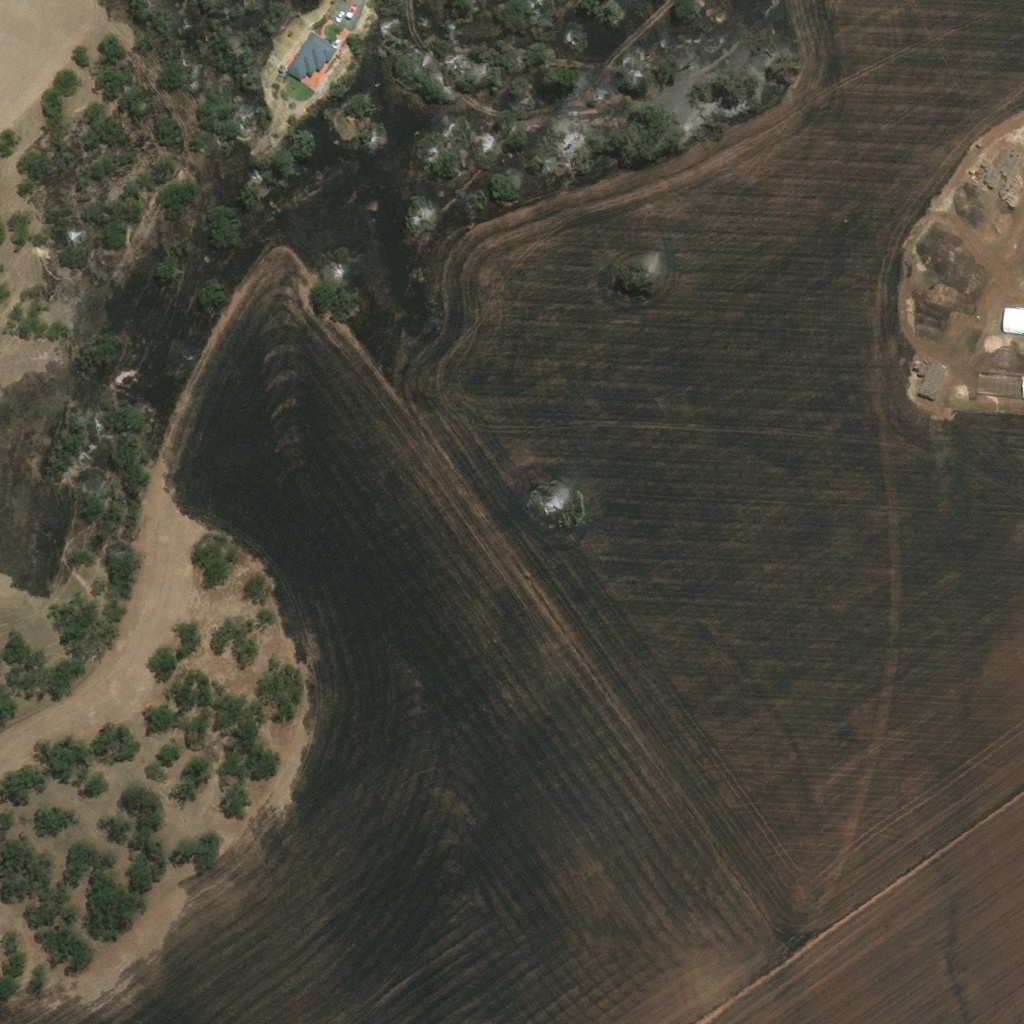0 no-damage: (289, 27, 340, 75), (1001, 307, 1023, 334), (280, 59, 289, 68)
